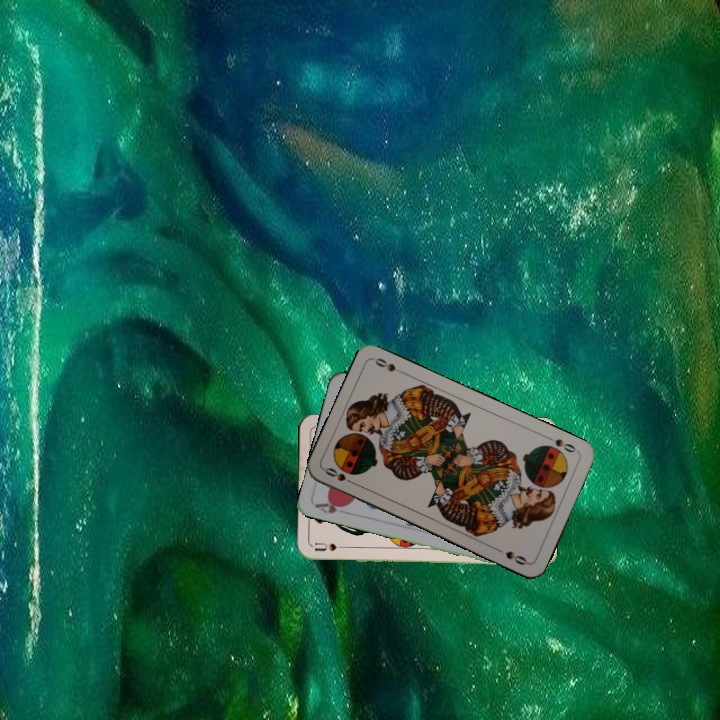HA: (311, 496, 352, 517)
SO: (320, 463, 359, 488), (542, 432, 581, 455)
SU: (312, 539, 352, 554)
